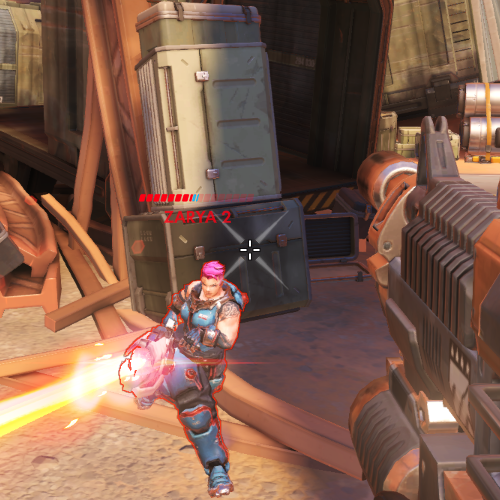hpbar: (138, 193, 254, 202)
